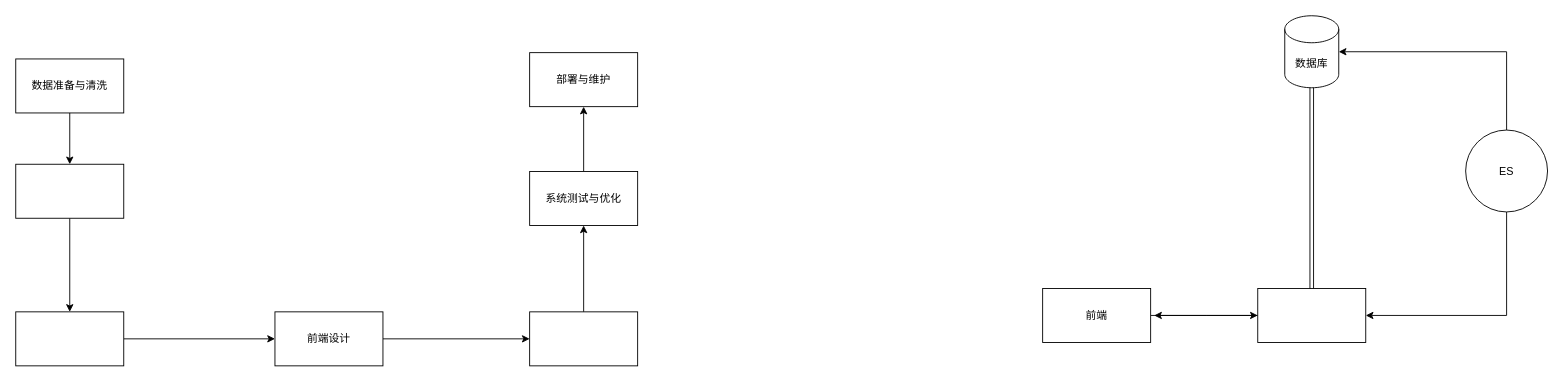
Image size: 1563x382. Some labels were removed from this diagram. Here are the shapes that lost their labels. From the top down, the centre of each, then its label:
At (69,190): "数据库设计与导入".
At (1311,315): "后端接口".
At (69,338): "后端开发".
At (583,338): "全文检索功能导入".
